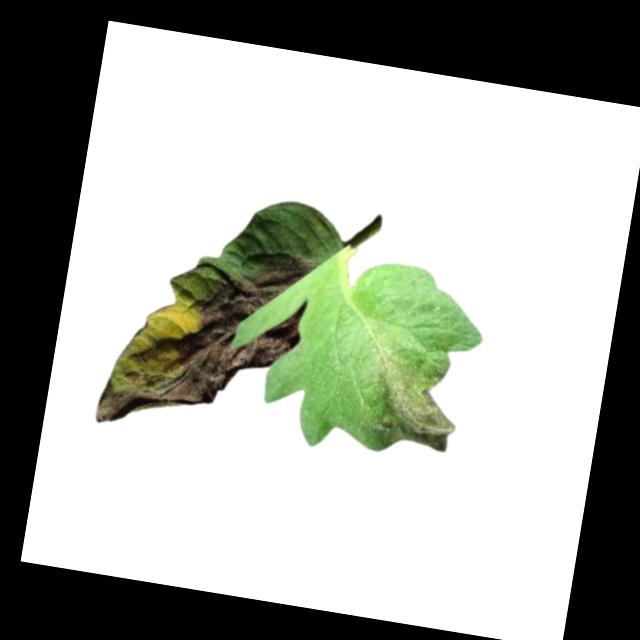Late_blight: (94, 227, 313, 453), (362, 348, 469, 458)
